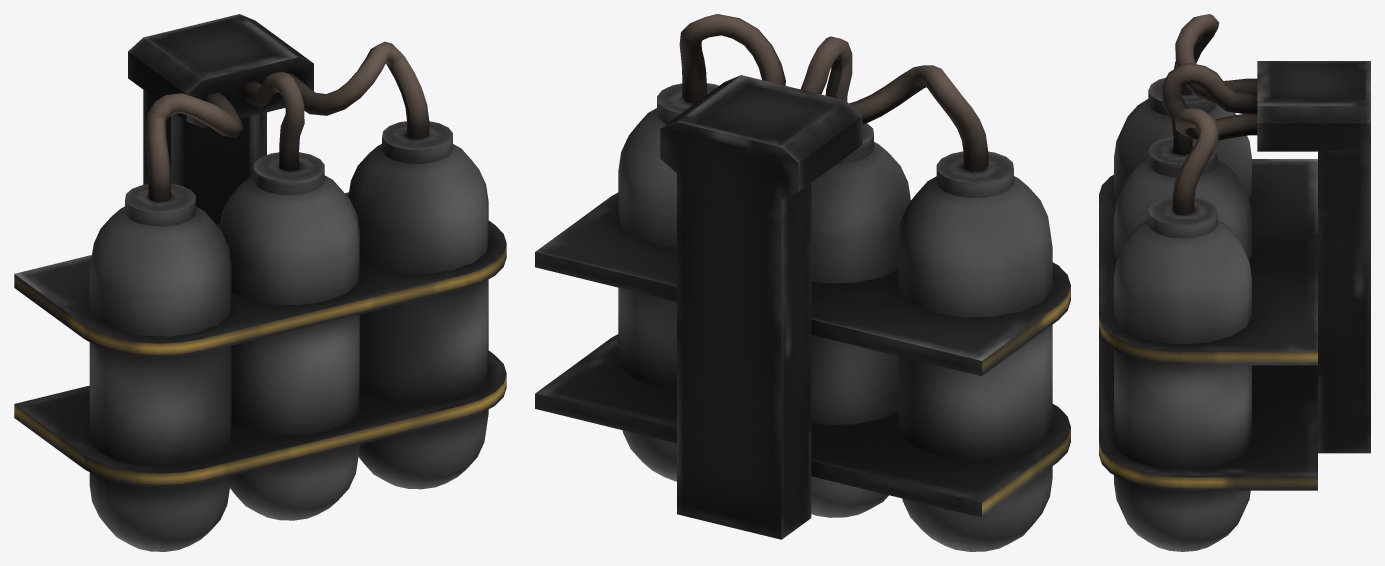
The model's file is bluedog_Xenon_SmallTriple.fbx.
3 views of the same model, side by side, from view 1: azimuth 30°, elevation 25°; view 2: azimuth 150°, elevation 25°; view 3: azimuth 270°, elevation 25° (orthographic). The views are drawn at different scales.
Parts seen in each view (by area): view 1: pSphere11, pSphere12, pSphere10, pCube71, Xenon_TripleTank2_pCylinder146, Xenon_TripleTank2_pCylinder145, extrudedSurface36, extrudedSurface23, extrudedSurface24; view 2: pCube71, pSphere11, Xenon_TripleTank2_pCylinder146, Xenon_TripleTank2_pCylinder145, pSphere10, pSphere12, extrudedSurface23, extrudedSurface36, extrudedSurface24; view 3: pSphere12, pCube71, Xenon_TripleTank2_pCylinder146, Xenon_TripleTank2_pCylinder145, pSphere10, pSphere11, extrudedSurface36, extrudedSurface24, extrudedSurface23.
Boxes of the visible parts, bbox=[...] form: pSphere11: bbox=[89, 183, 231, 551]; pSphere12: bbox=[348, 121, 488, 489]; pSphere10: bbox=[220, 152, 359, 520]; pCube71: bbox=[128, 14, 313, 224]; Xenon_TripleTank2_pCylinder146: bbox=[14, 192, 506, 357]; Xenon_TripleTank2_pCylinder145: bbox=[14, 351, 506, 487]; extrudedSurface36: bbox=[290, 41, 429, 139]; extrudedSurface23: bbox=[146, 92, 243, 202]; extrudedSurface24: bbox=[241, 71, 304, 171]; pCube71: bbox=[660, 75, 862, 539]; pSphere11: bbox=[898, 151, 1052, 551]; Xenon_TripleTank2_pCylinder146: bbox=[535, 192, 1070, 376]; Xenon_TripleTank2_pCylinder145: bbox=[535, 334, 1070, 517]; pSphere10: bbox=[811, 123, 910, 517]; pSphere12: bbox=[618, 83, 718, 481]; extrudedSurface23: bbox=[849, 65, 988, 171]; extrudedSurface36: bbox=[679, 14, 785, 103]; extrudedSurface24: bbox=[800, 36, 852, 101]; pSphere12: bbox=[1114, 197, 1251, 551]; pCube71: bbox=[1257, 61, 1370, 453]; Xenon_TripleTank2_pCylinder146: bbox=[1099, 159, 1317, 365]; Xenon_TripleTank2_pCylinder145: bbox=[1099, 330, 1317, 490]; pSphere10: bbox=[1114, 136, 1251, 260]; pSphere11: bbox=[1114, 77, 1251, 200]; extrudedSurface36: bbox=[1172, 108, 1257, 215]; extrudedSurface24: bbox=[1162, 63, 1257, 154]; extrudedSurface23: bbox=[1174, 14, 1257, 102].
Size of the model in its own units: 0.2141 by 0.2183 by 0.1274.
Materials: 1 (1 with a texture image).
